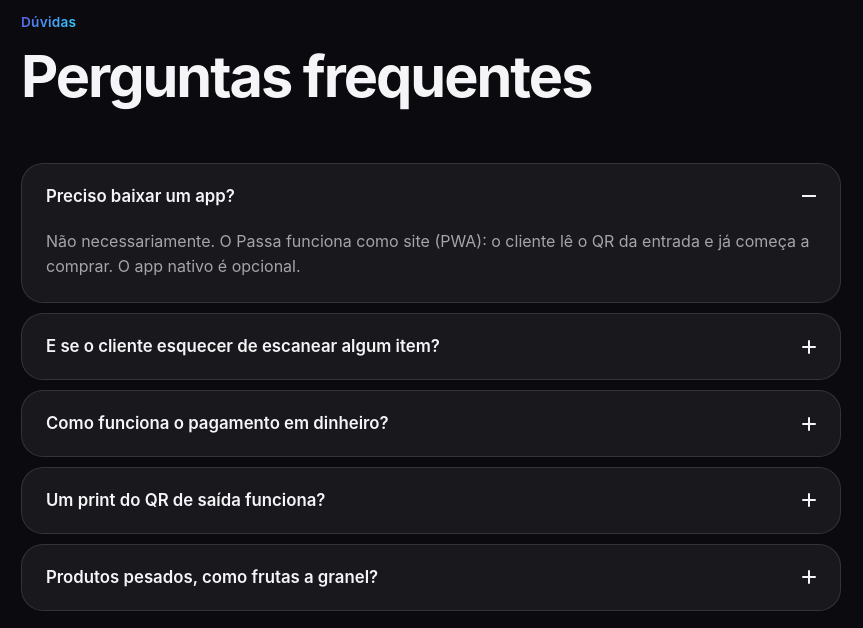
Test: <Faq /> › clicar na pergunta aberta fecha
Step 1. Click the button "Preciso baixar um app?" → coordinates (140, 196), box [22,164,840,229]
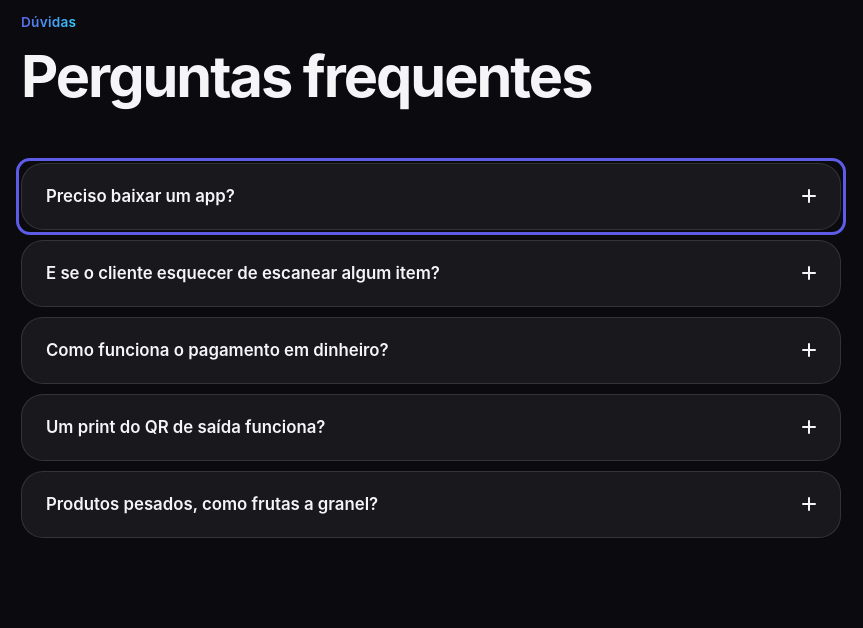
Expected: the button "Preciso baixar um app?" is collapsed, [22,164,840,229]
